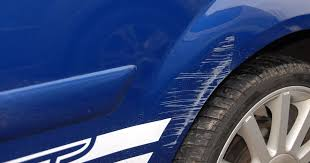scratch: (161, 31, 244, 146)
